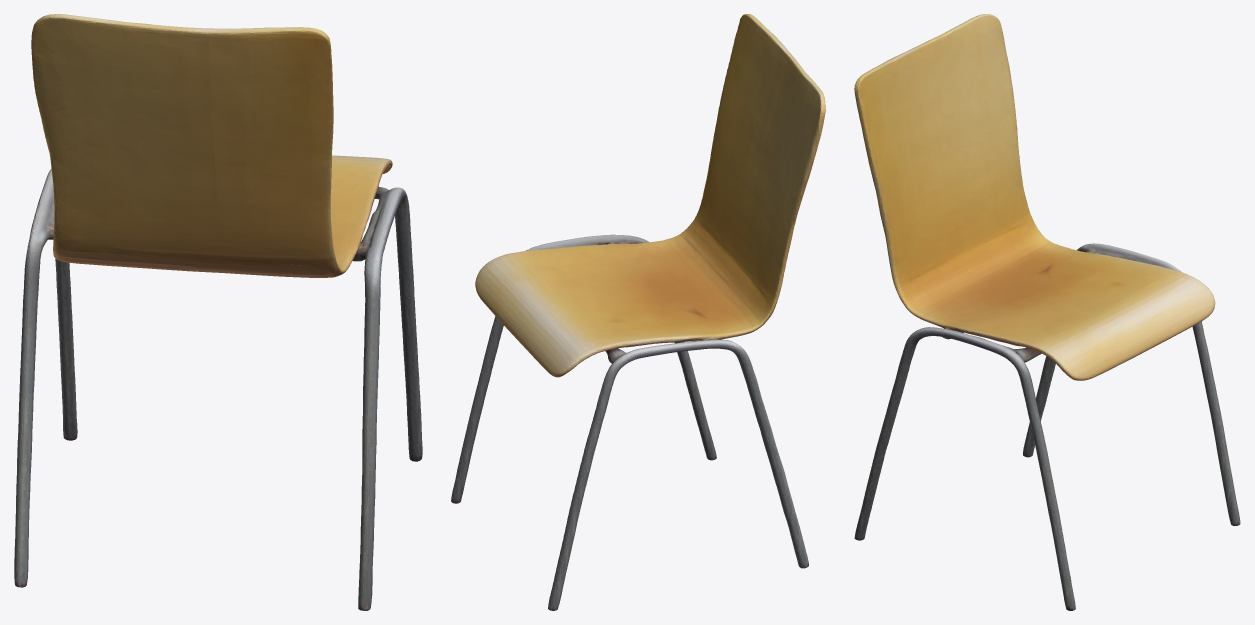
File: light-colored_wooden_chair_at_middle_row_right_table_(right)_000.glb
3 views of the same model, side by side, from view 1: azimuth 30°, elevation 25°; view 2: azimuth 150°, elevation 25°; view 3: azimuth 270°, elevation 25° (orthographic). The views are drawn at different scales.
Parts seen in each view (by area): view 1: phase2_final_light-colored_wooden_chair_at_middle_row_right_; view 2: phase2_final_light-colored_wooden_chair_at_middle_row_right_; view 3: phase2_final_light-colored_wooden_chair_at_middle_row_right_.
Boxes of the visible parts, x1,y1,x2,y2 form: phase2_final_light-colored_wooden_chair_at_middle_row_right_: (14, 14, 422, 610); phase2_final_light-colored_wooden_chair_at_middle_row_right_: (451, 14, 825, 610); phase2_final_light-colored_wooden_chair_at_middle_row_right_: (854, 14, 1240, 610).
Bounding box in the file's own units: 0.4197 × 0.5452 × 0.4278.
1 material, 1 textured.
